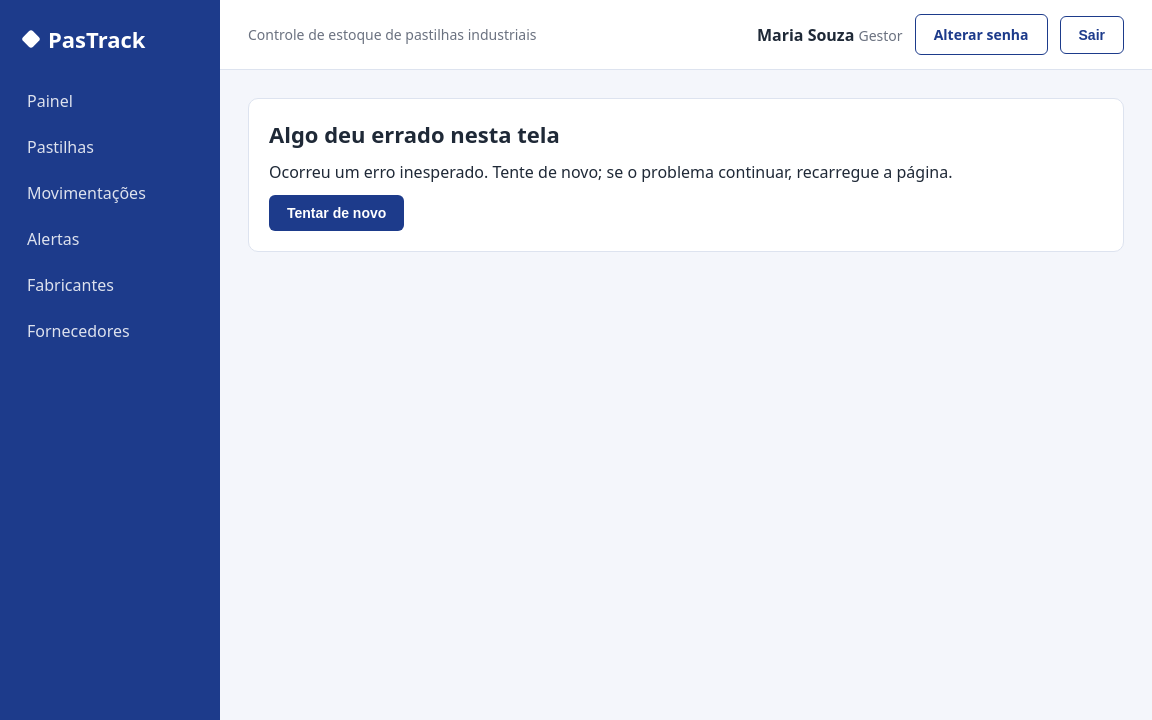
Test: Layout › uma página que falha mostra o limite de erro sem derrubar o menu
This screenshot has width=1152, height=720.
Check: the message shows "Algo deu errado nesta tela", box [269,119,560,149]
Check: the navigation bar named "Menu principal" is shown, box [27,90,146,342]
What coordinates should you click on to do the following:
click the link "Painel"
I would click on:
 (50, 101)
Its box is [27,90,73,112].
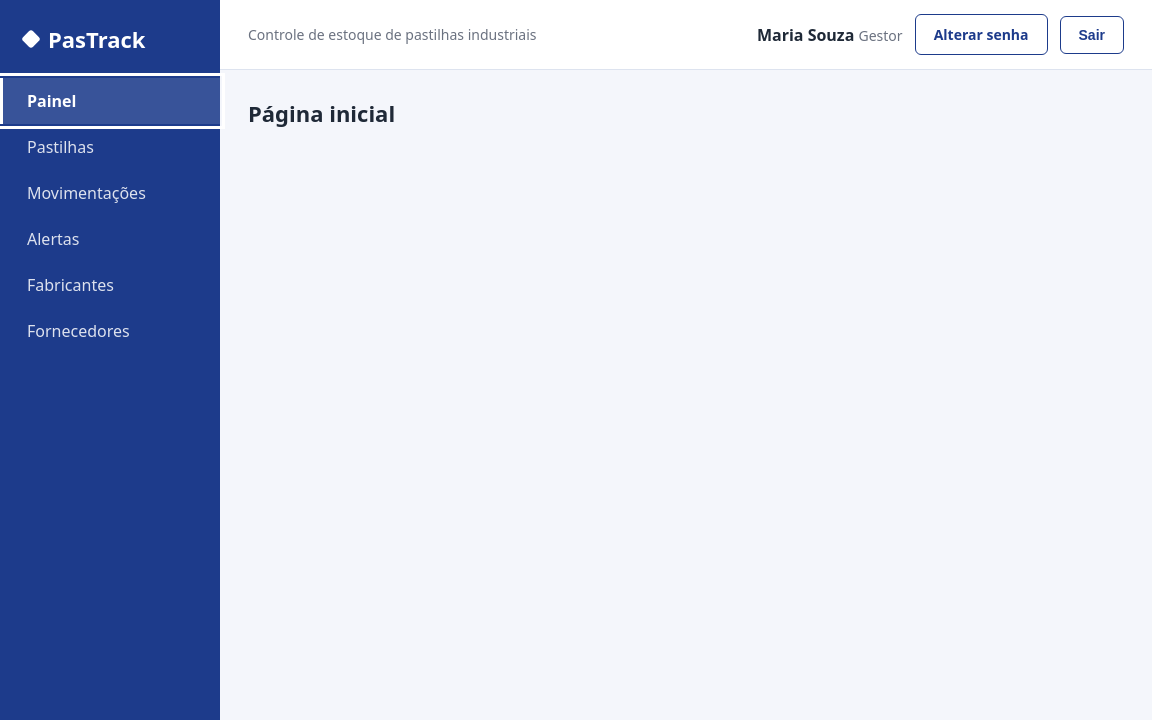
Check: the heading "Página inicial" is shown, box [248,98,395,128]
Check: the message is gone
